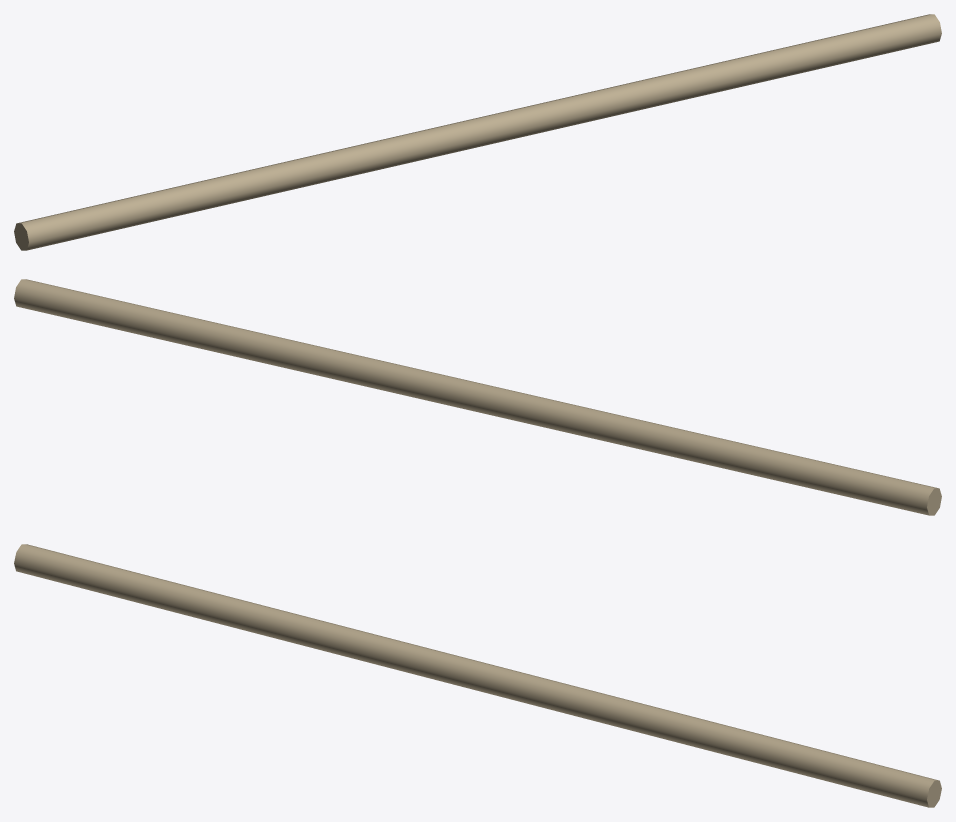
Rendered from tf-boatboom-p3.glb.
3 views of the same model, one above another, from view 1: azimuth 30°, elevation 25°; view 2: azimuth 150°, elevation 25°; view 3: azimuth 330°, elevation 25° (orthographic).
Parts seen in each view (by area): view 1: tf-boatboom-p3; view 2: tf-boatboom-p3; view 3: tf-boatboom-p3.
Boxes of the visible parts, x1,y1,x2,y2 form: tf-boatboom-p3: (14, 14, 941, 250); tf-boatboom-p3: (14, 279, 941, 515); tf-boatboom-p3: (14, 544, 941, 807).
Size of the model in its own units: 7 by 0.3001 by 0.2.
